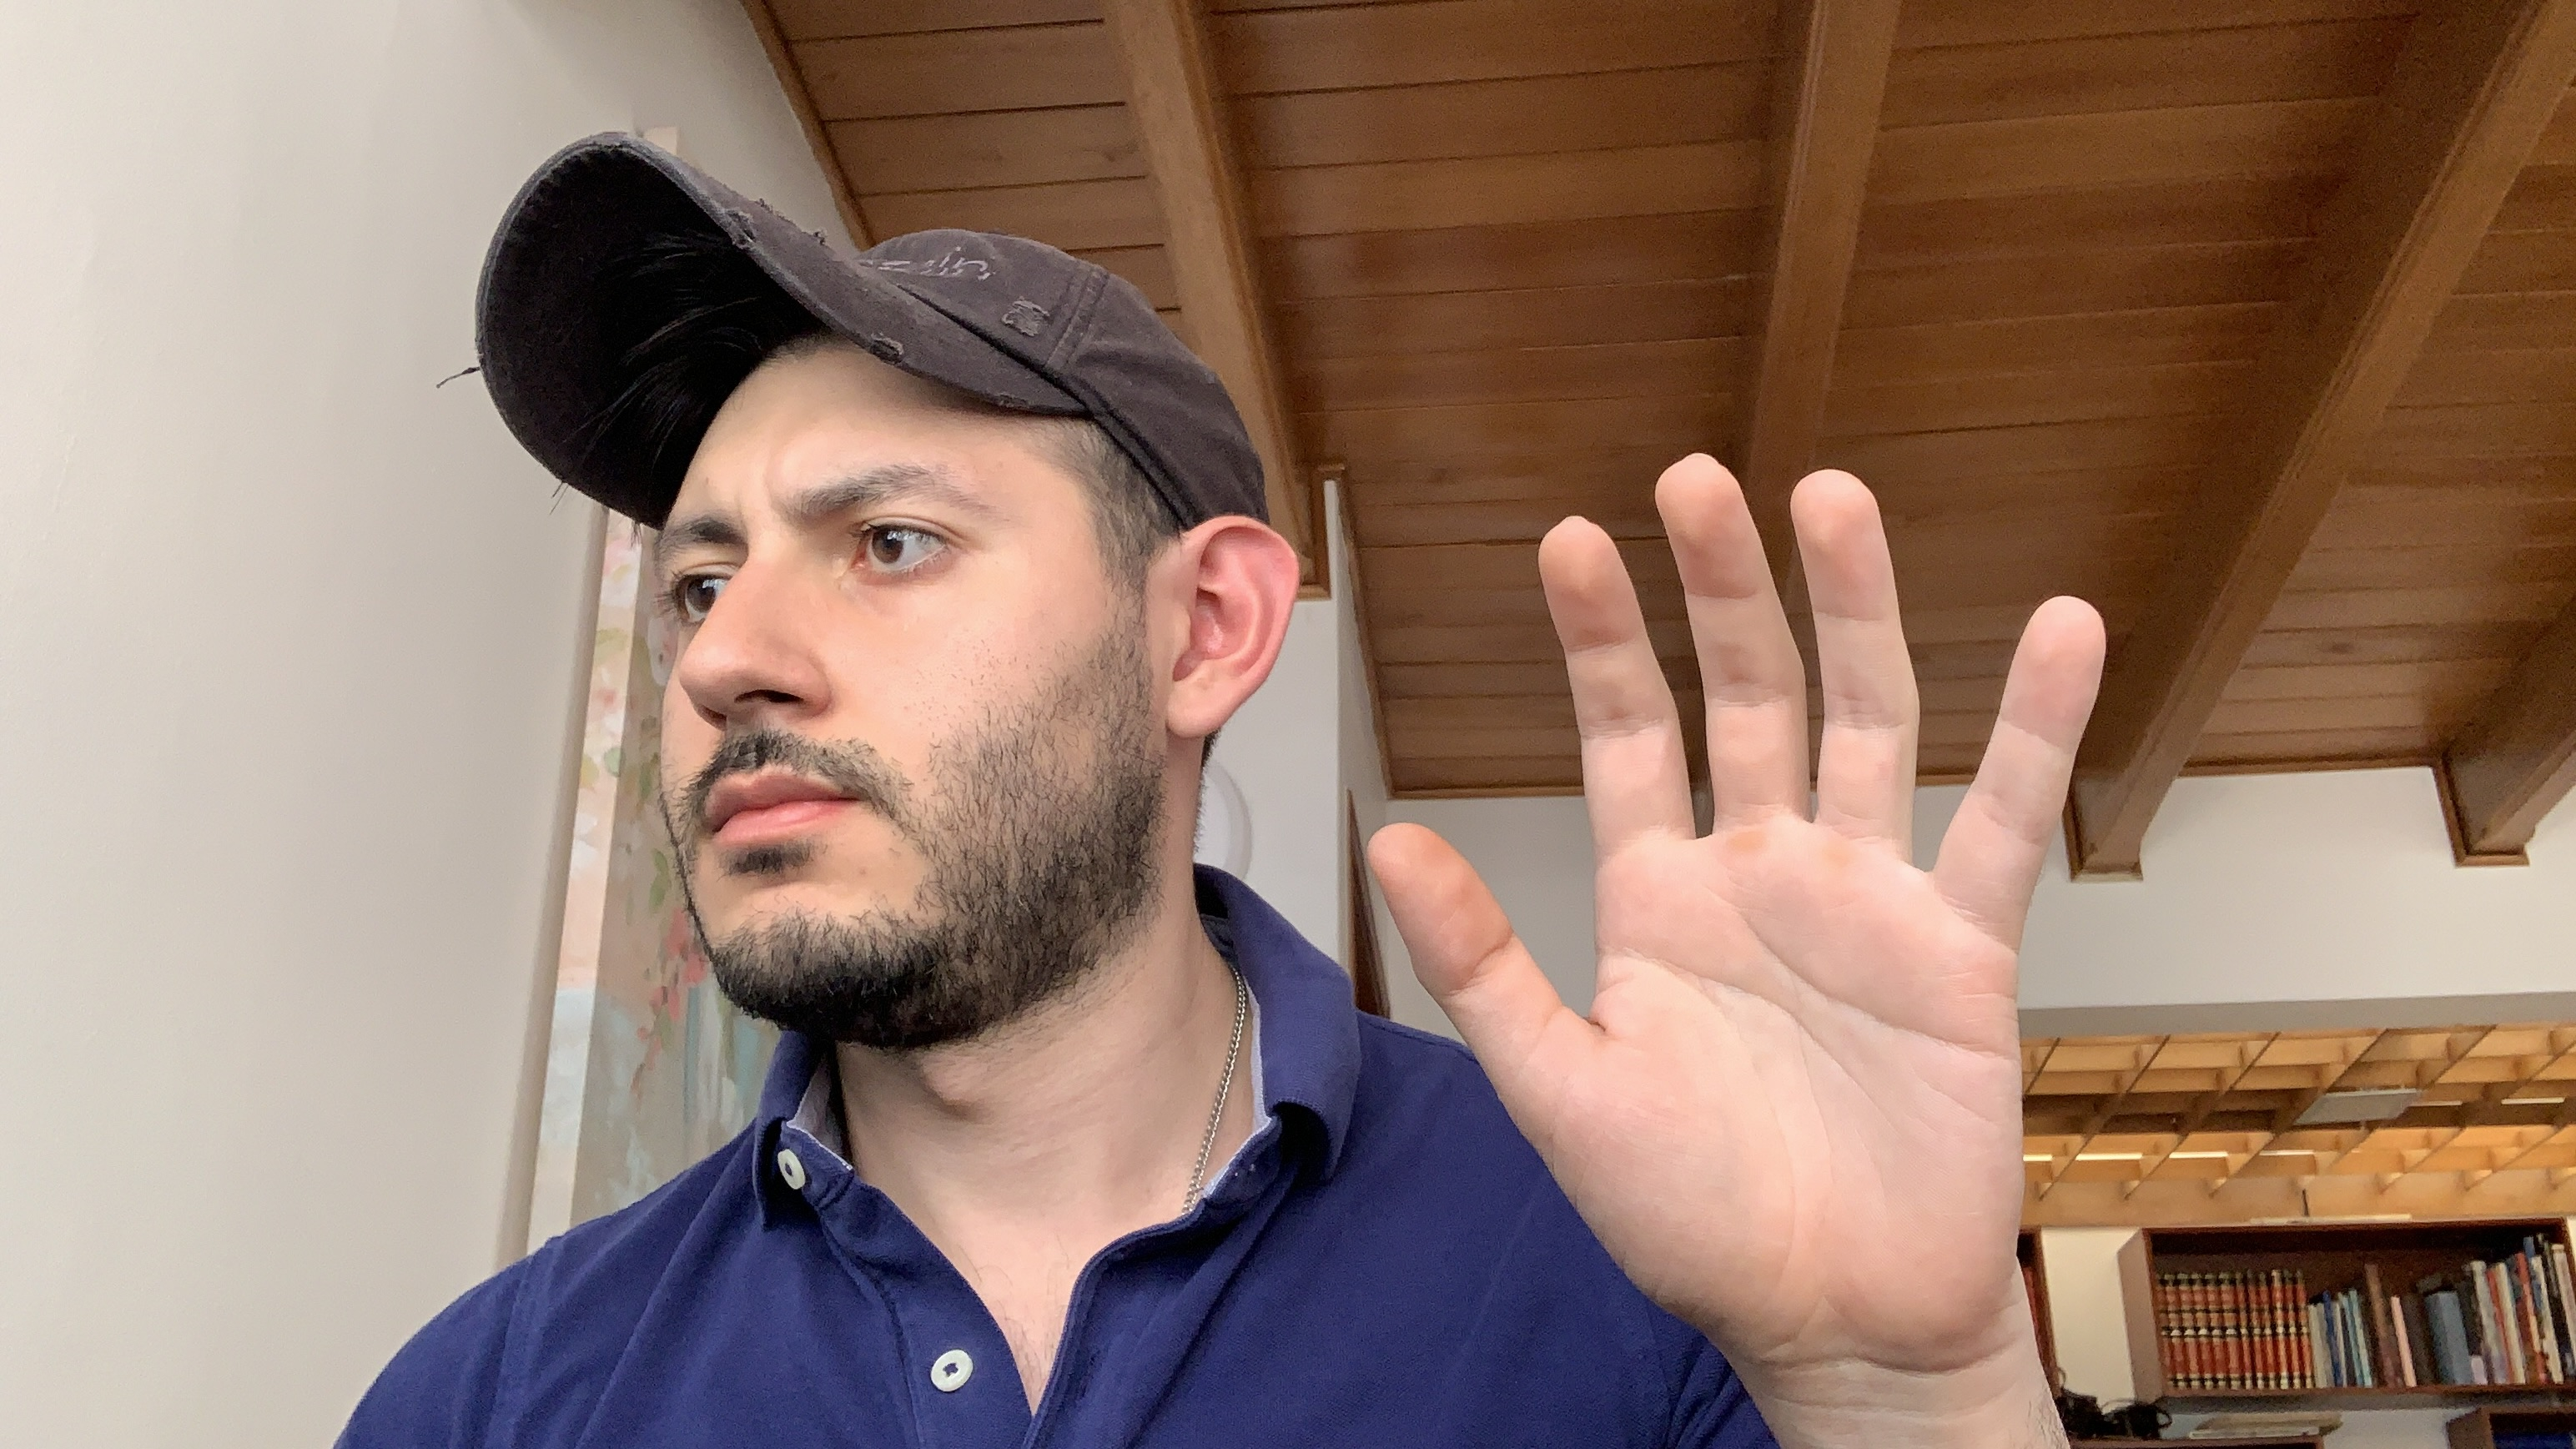Hello: (1355, 437, 2123, 1375)
